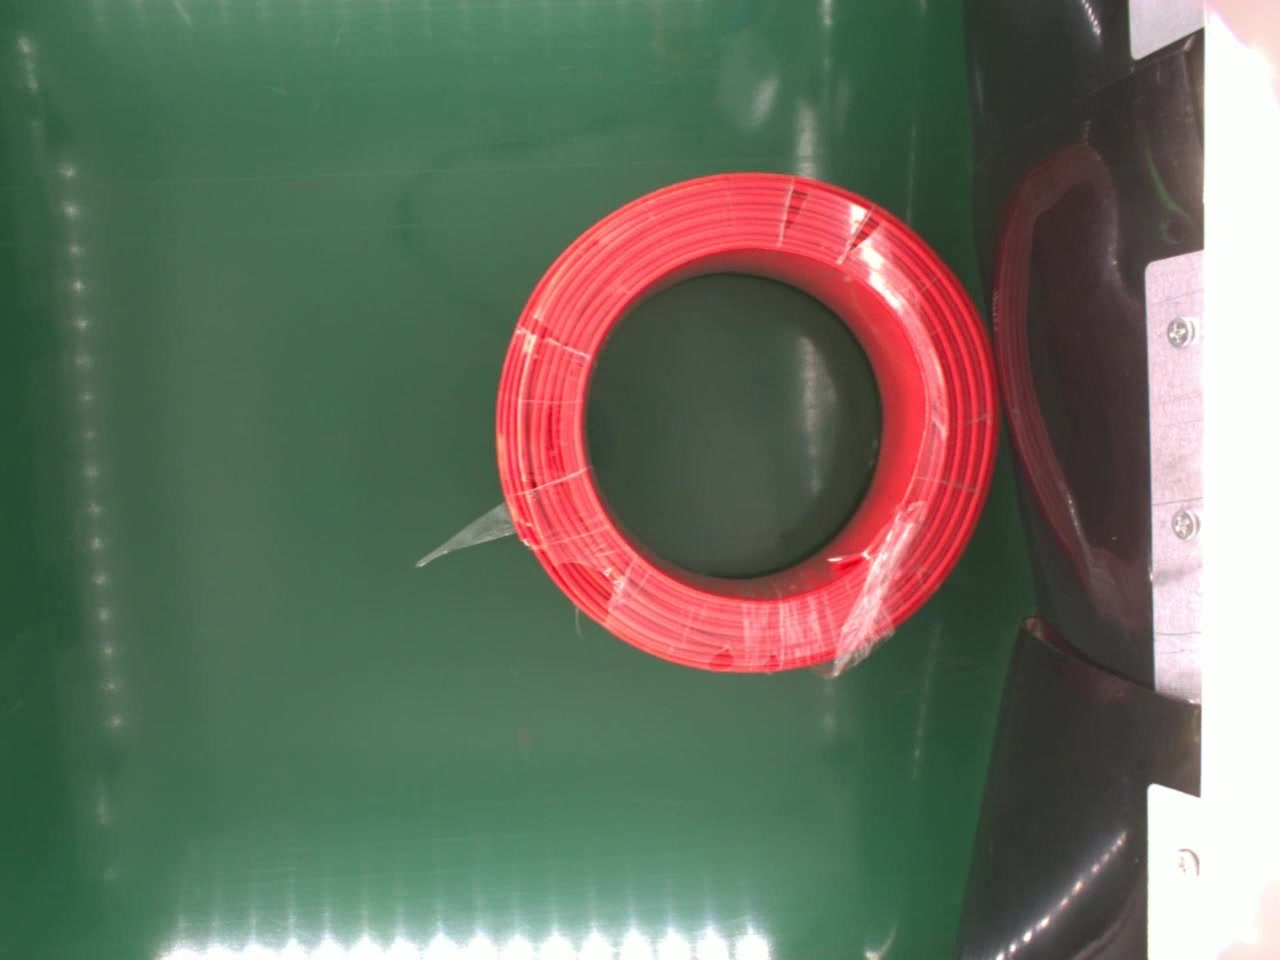red: (491, 172, 999, 675)
